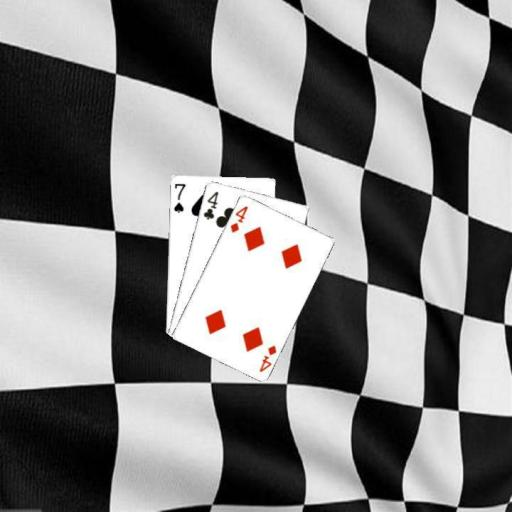card-corner: (256, 342, 278, 374), (227, 203, 249, 234), (200, 188, 220, 220), (171, 180, 186, 214)
